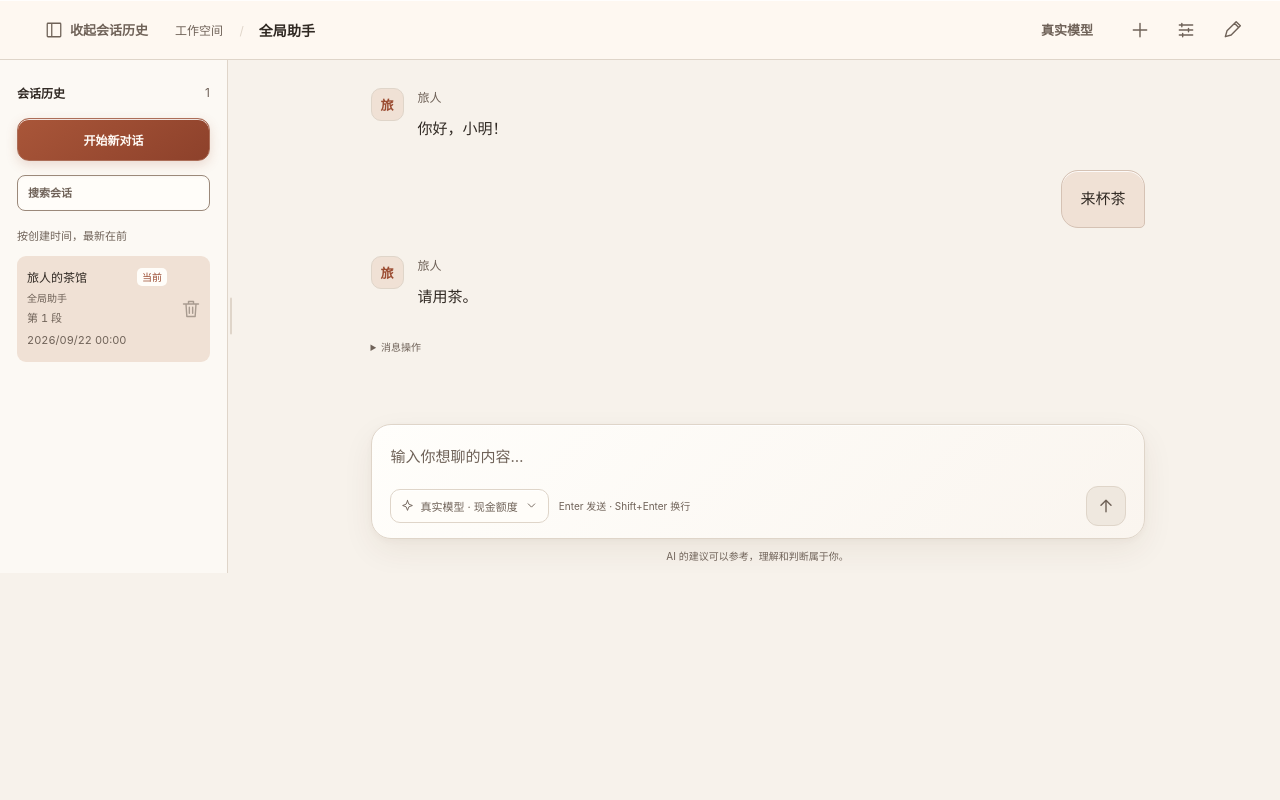
keeps the global assistant fixed without a role library or role selector
The width and height of the screenshot is (1280, 800).
Expected: the text "请用茶。" is shown, [418,286,478,306]
Step 1. Click the button named "配置" → click(1186, 30), box [1166,10,1206,50]
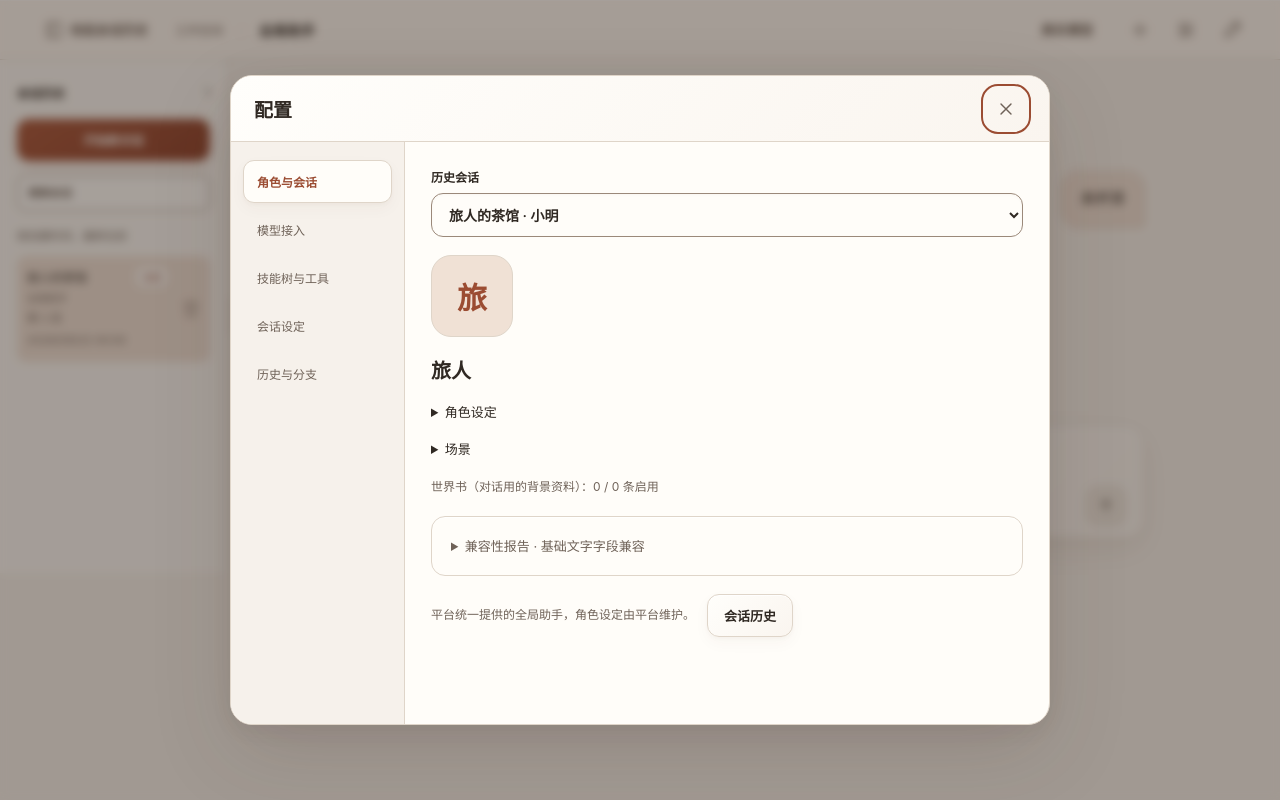
Expected: the text "平台统一提供的全局助手，角色设定由平台维护。" is shown, [431,604,695,626]
